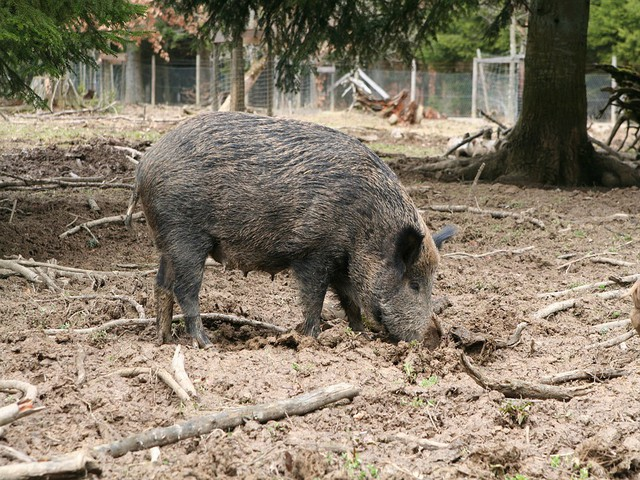Pig: (119, 105, 459, 353)
